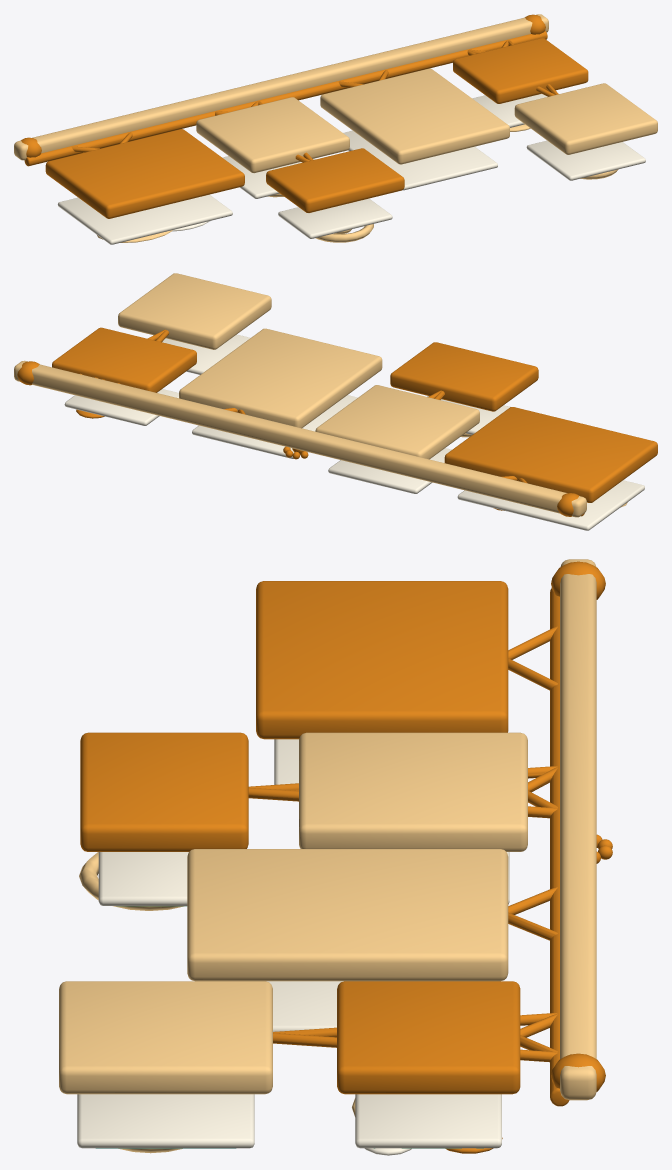
Rendered from LoftWallGallery_Premium.fbx.
The picture shows the model from 3 angles, top to bottom: view 1: azimuth 30°, elevation 25°; view 2: azimuth 150°, elevation 25°; view 3: azimuth 270°, elevation 25°; orthographic projection. The views are drawn at different scales.
Parts seen in each view (by area): view 1: LoftWallGallery; view 2: LoftWallGallery; view 3: LoftWallGallery.
Boxes of the visible parts, bbox=[...] form: LoftWallGallery: bbox=[14, 14, 657, 244]; LoftWallGallery: bbox=[14, 273, 657, 530]; LoftWallGallery: bbox=[59, 559, 612, 1155].
Size of the model in its own units: 1.6 by 0.1764 by 0.7251.
